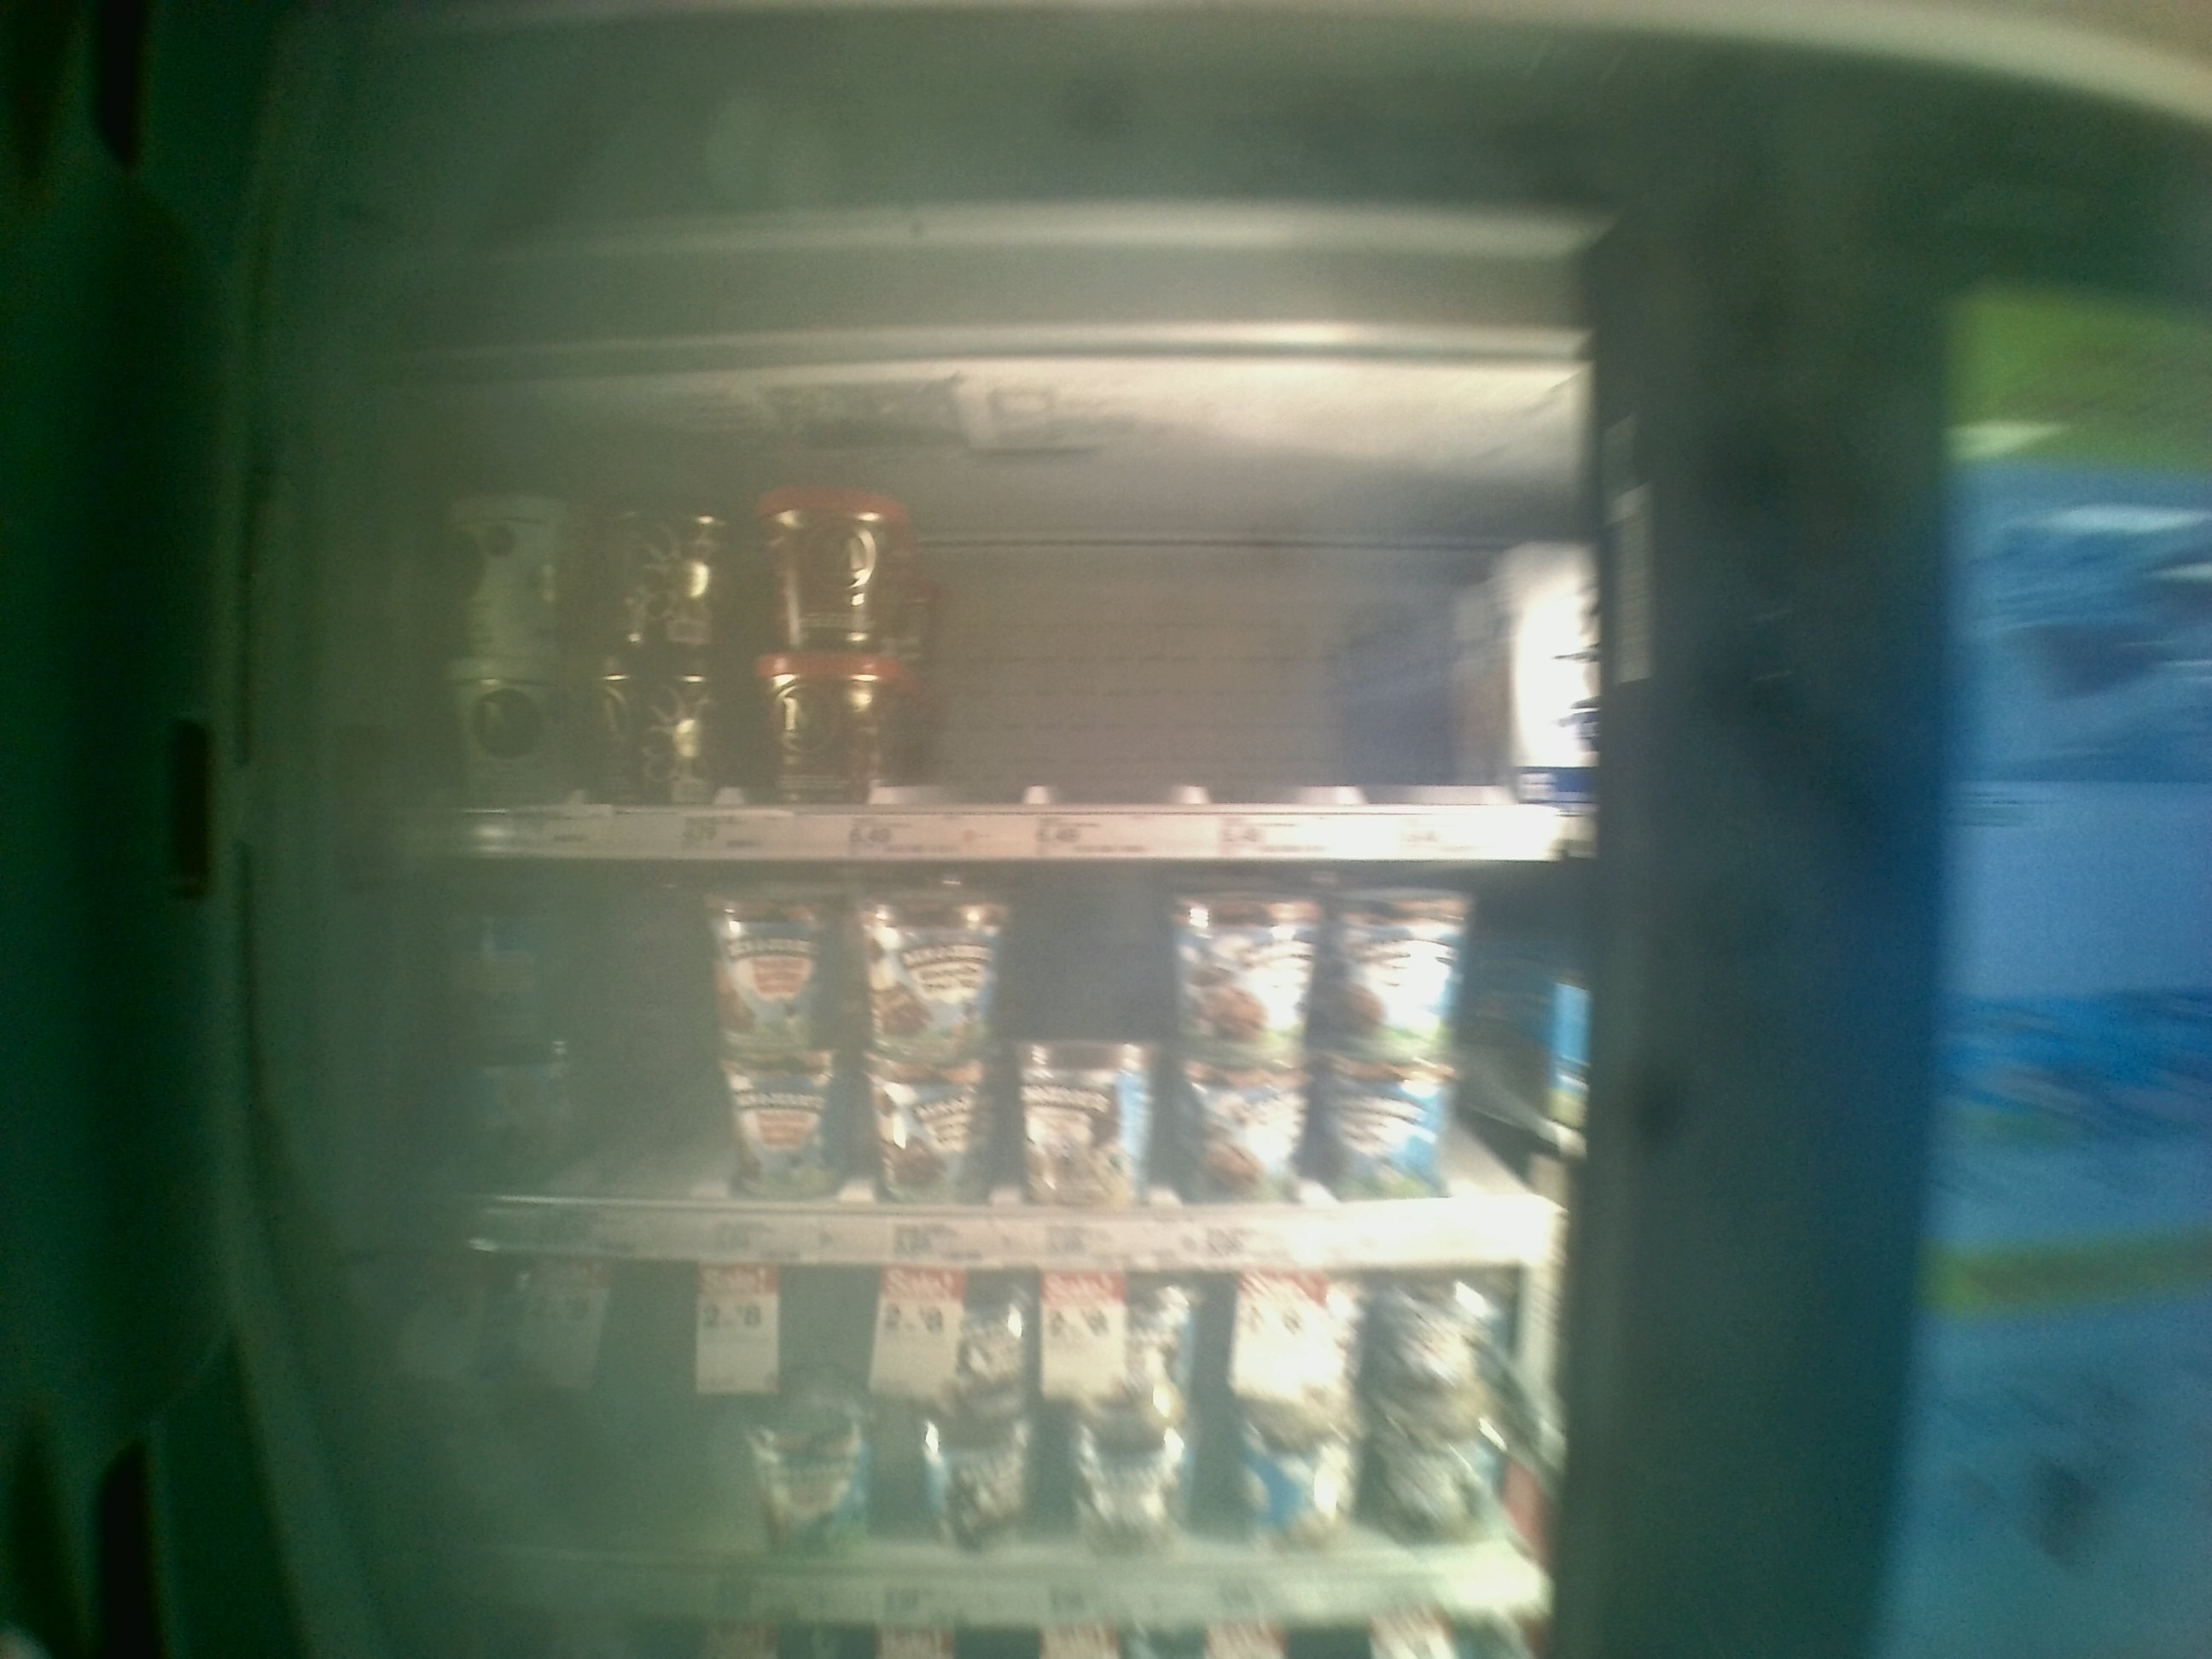shelf: (381, 401, 1611, 863), (387, 859, 1587, 1263)
